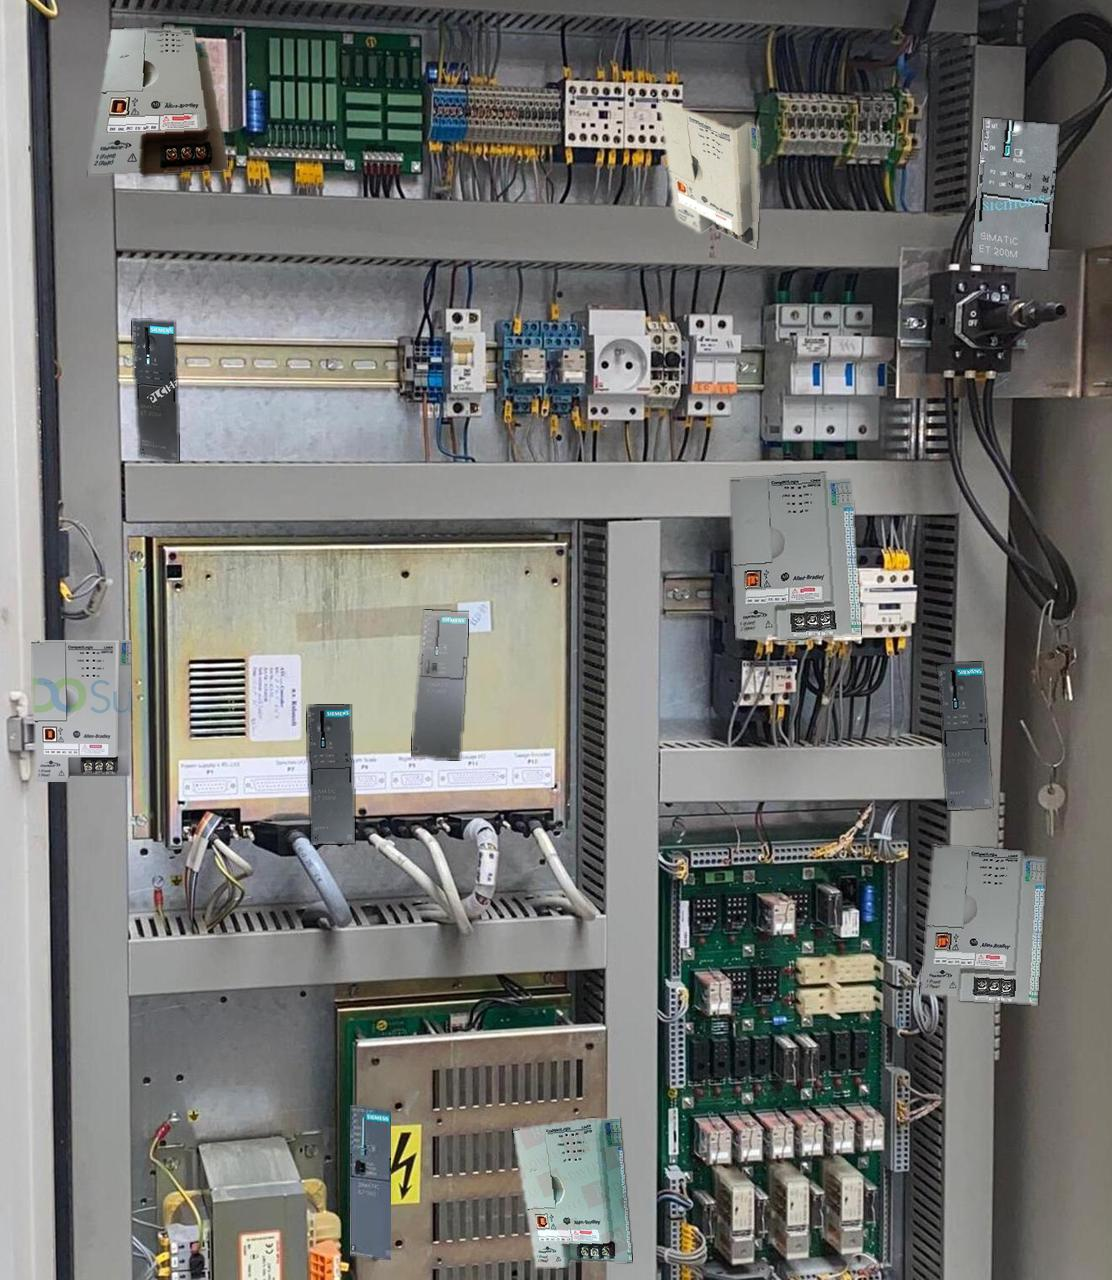AllenBradley: (730, 473, 860, 639), (88, 28, 228, 175), (921, 845, 1045, 1004), (512, 1118, 631, 1268), (658, 97, 759, 248), (30, 640, 129, 781)
Siemens: (411, 610, 468, 759), (350, 1105, 390, 1259)
